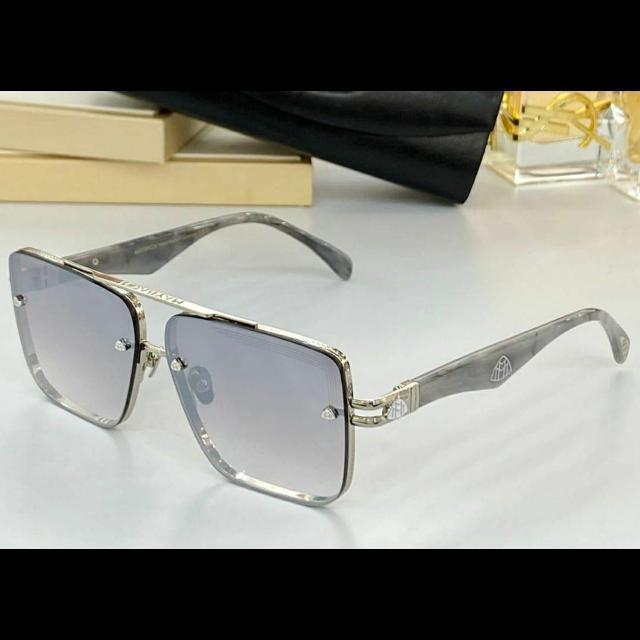glasses: (8, 210, 630, 506)
